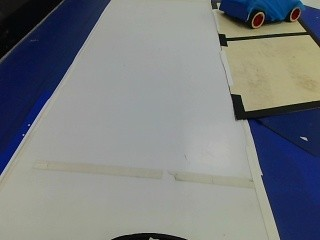car: (213, 0, 306, 29)
